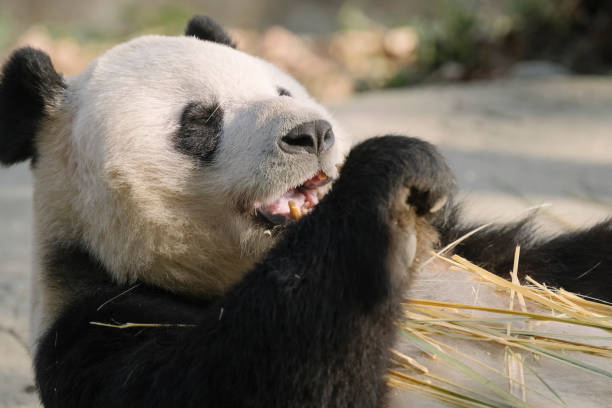panda: (4, 14, 350, 285)
